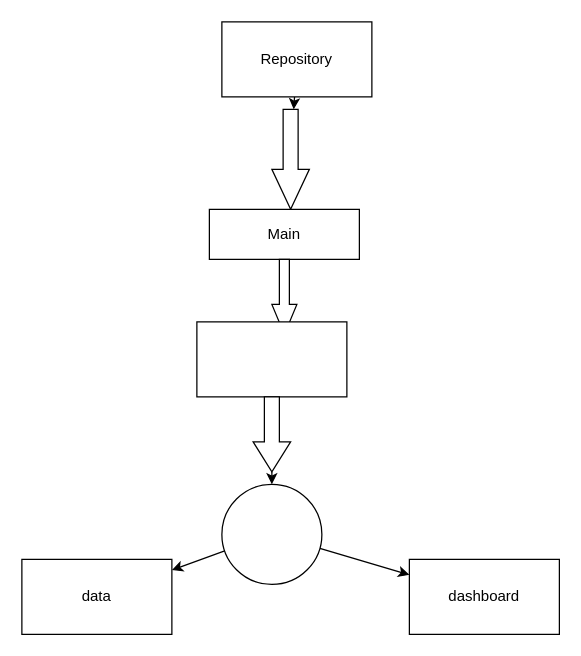
Image size: 581x656. Some labels were removed from this diagram. Here are the shapes that lost their labels. From the top down, the centre of each, then its label:
point (271, 359): Dev
point (271, 533): setup
